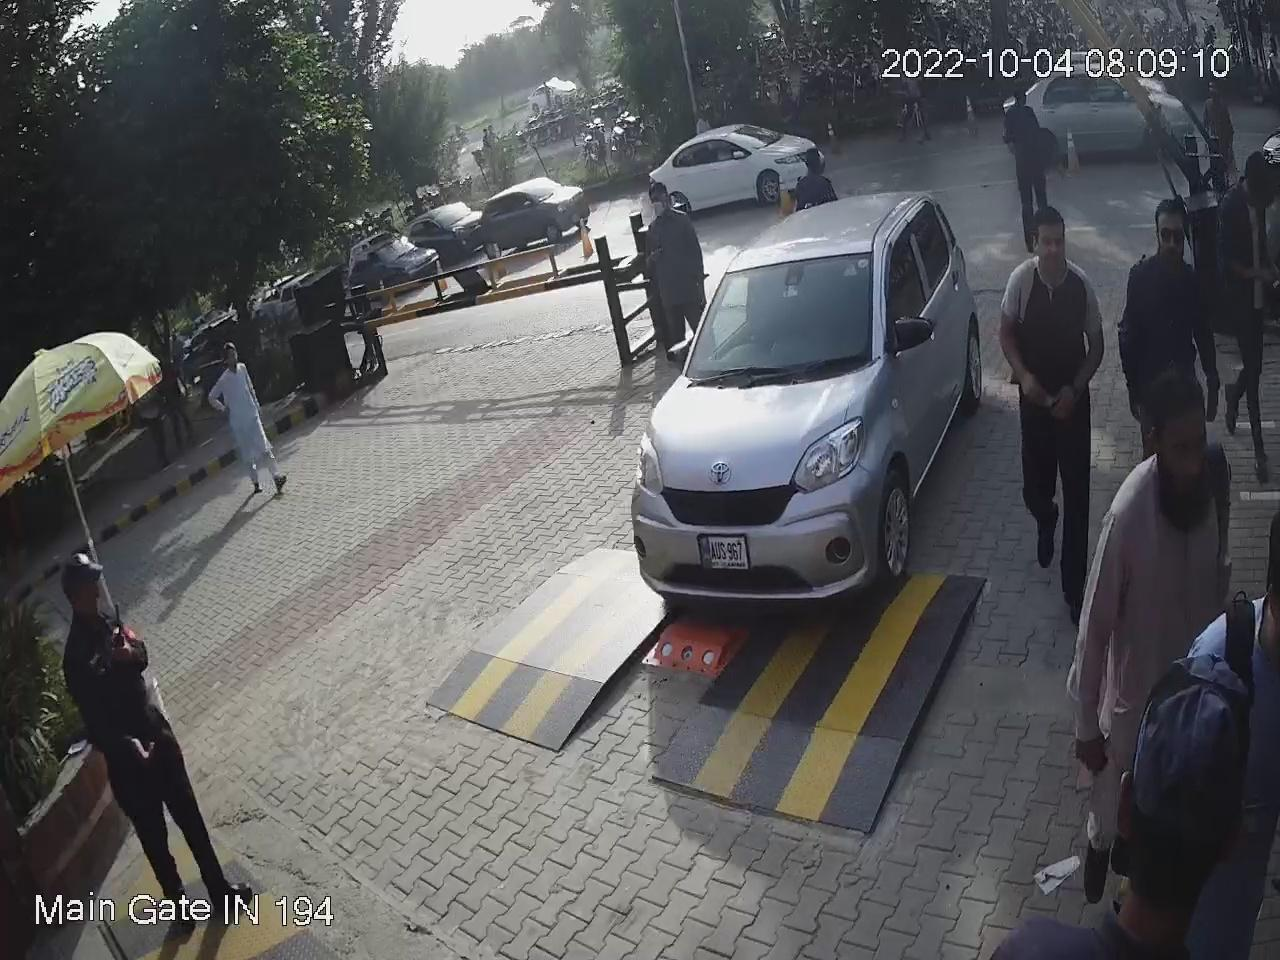windshield: (680, 235, 878, 375)
